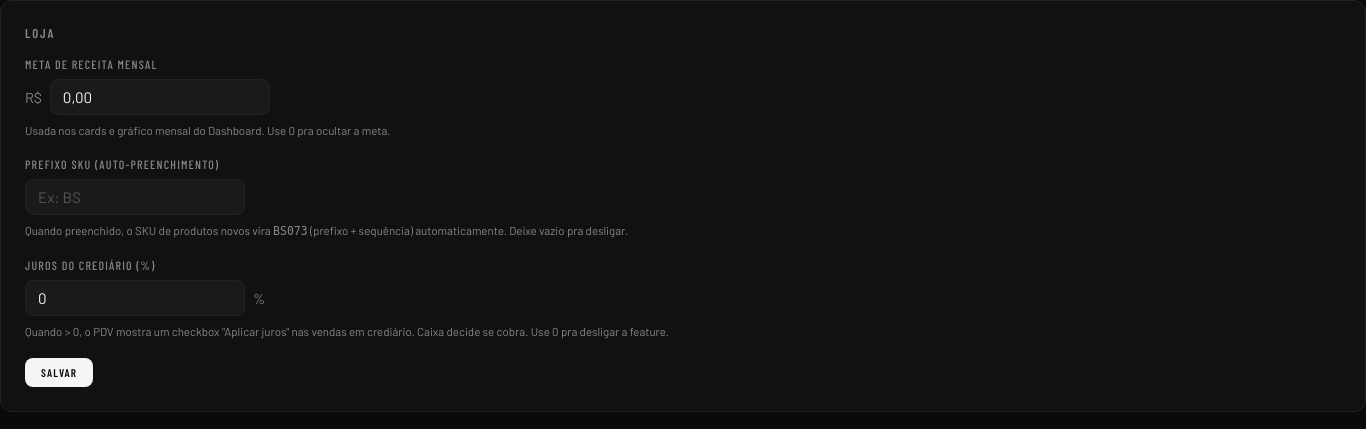
Test: StoreSettingsSection › shows "✓ Salvo" briefly after successful submit
Step 1. Replace the text in the field with test id "meta-receita-input" with "10000" → (160, 97), box [50, 79, 270, 115]
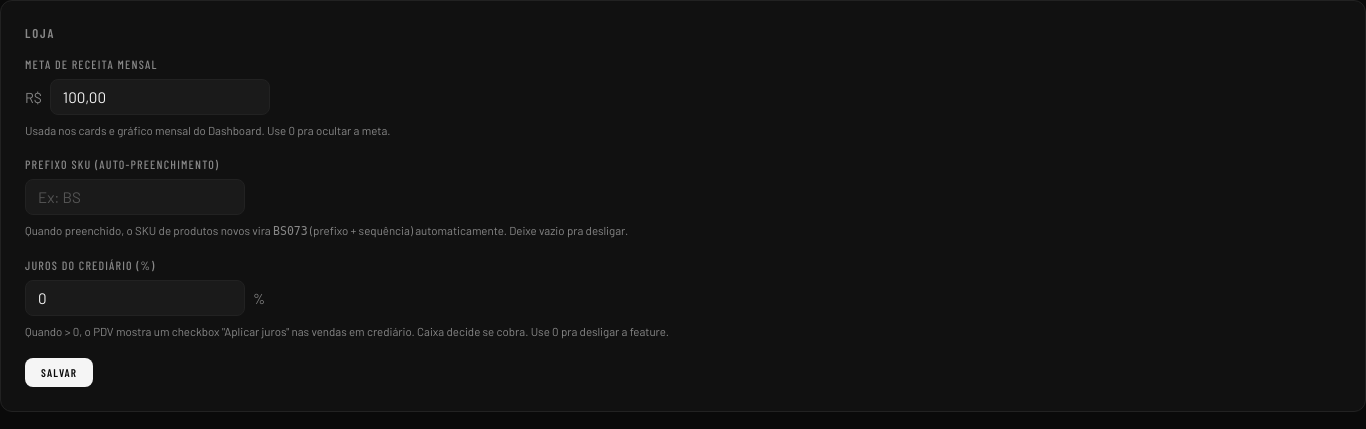
Step 2. Click the button with test id "store-settings-save" → (59, 372), box [25, 358, 93, 387]
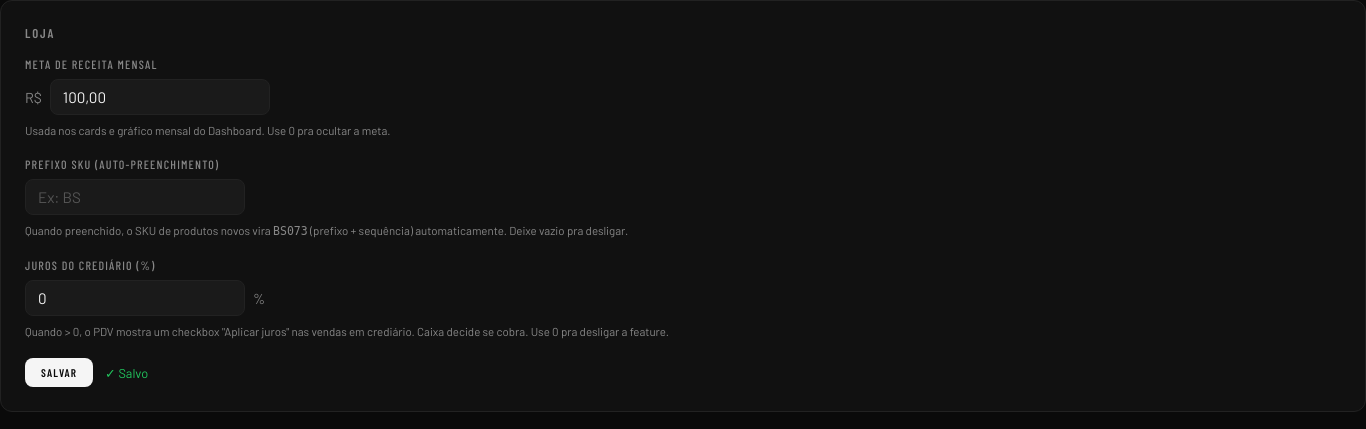
Now the text "✓ Salvo" is shown, box [105, 364, 148, 380]
